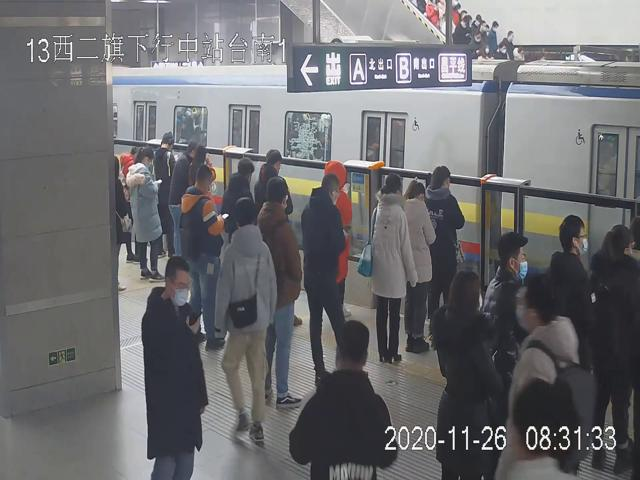person: (141, 254, 209, 480), (215, 198, 277, 444), (507, 274, 581, 480), (434, 270, 502, 475), (258, 176, 303, 411), (300, 173, 347, 381), (180, 166, 227, 349), (371, 174, 416, 362), (426, 166, 464, 327), (405, 178, 436, 354), (128, 146, 164, 281)
